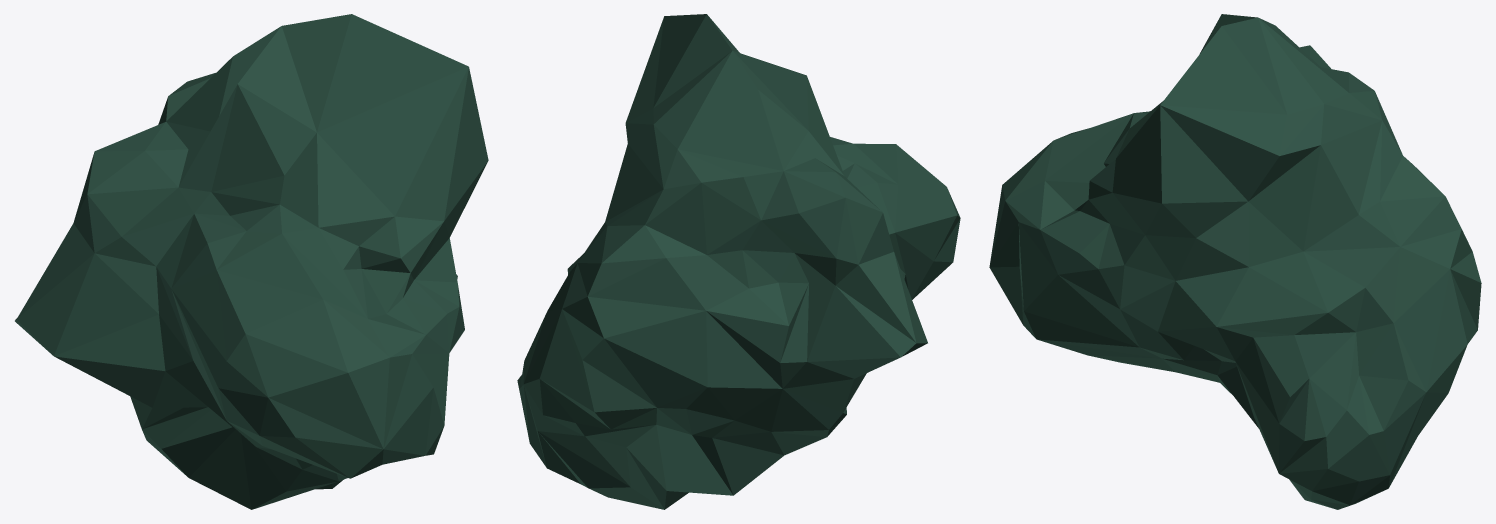
The model's file is SM_large_rock_41.fbx.
The picture shows the model from 3 angles, left to right: view 1: azimuth 30°, elevation 25°; view 2: azimuth 150°, elevation 25°; view 3: azimuth 270°, elevation 25°; orthographic projection. The views are drawn at different scales.
Parts seen in each view (by area): view 1: large_rock_41; view 2: large_rock_41; view 3: large_rock_41.
Part boxes in pixels (<box>): large_rock_41: <box>15,14,488,509</box>; large_rock_41: <box>517,14,960,509</box>; large_rock_41: <box>989,14,1481,509</box>.
Bounding box in the file's own units: 76.84 × 88.72 × 85.5.
